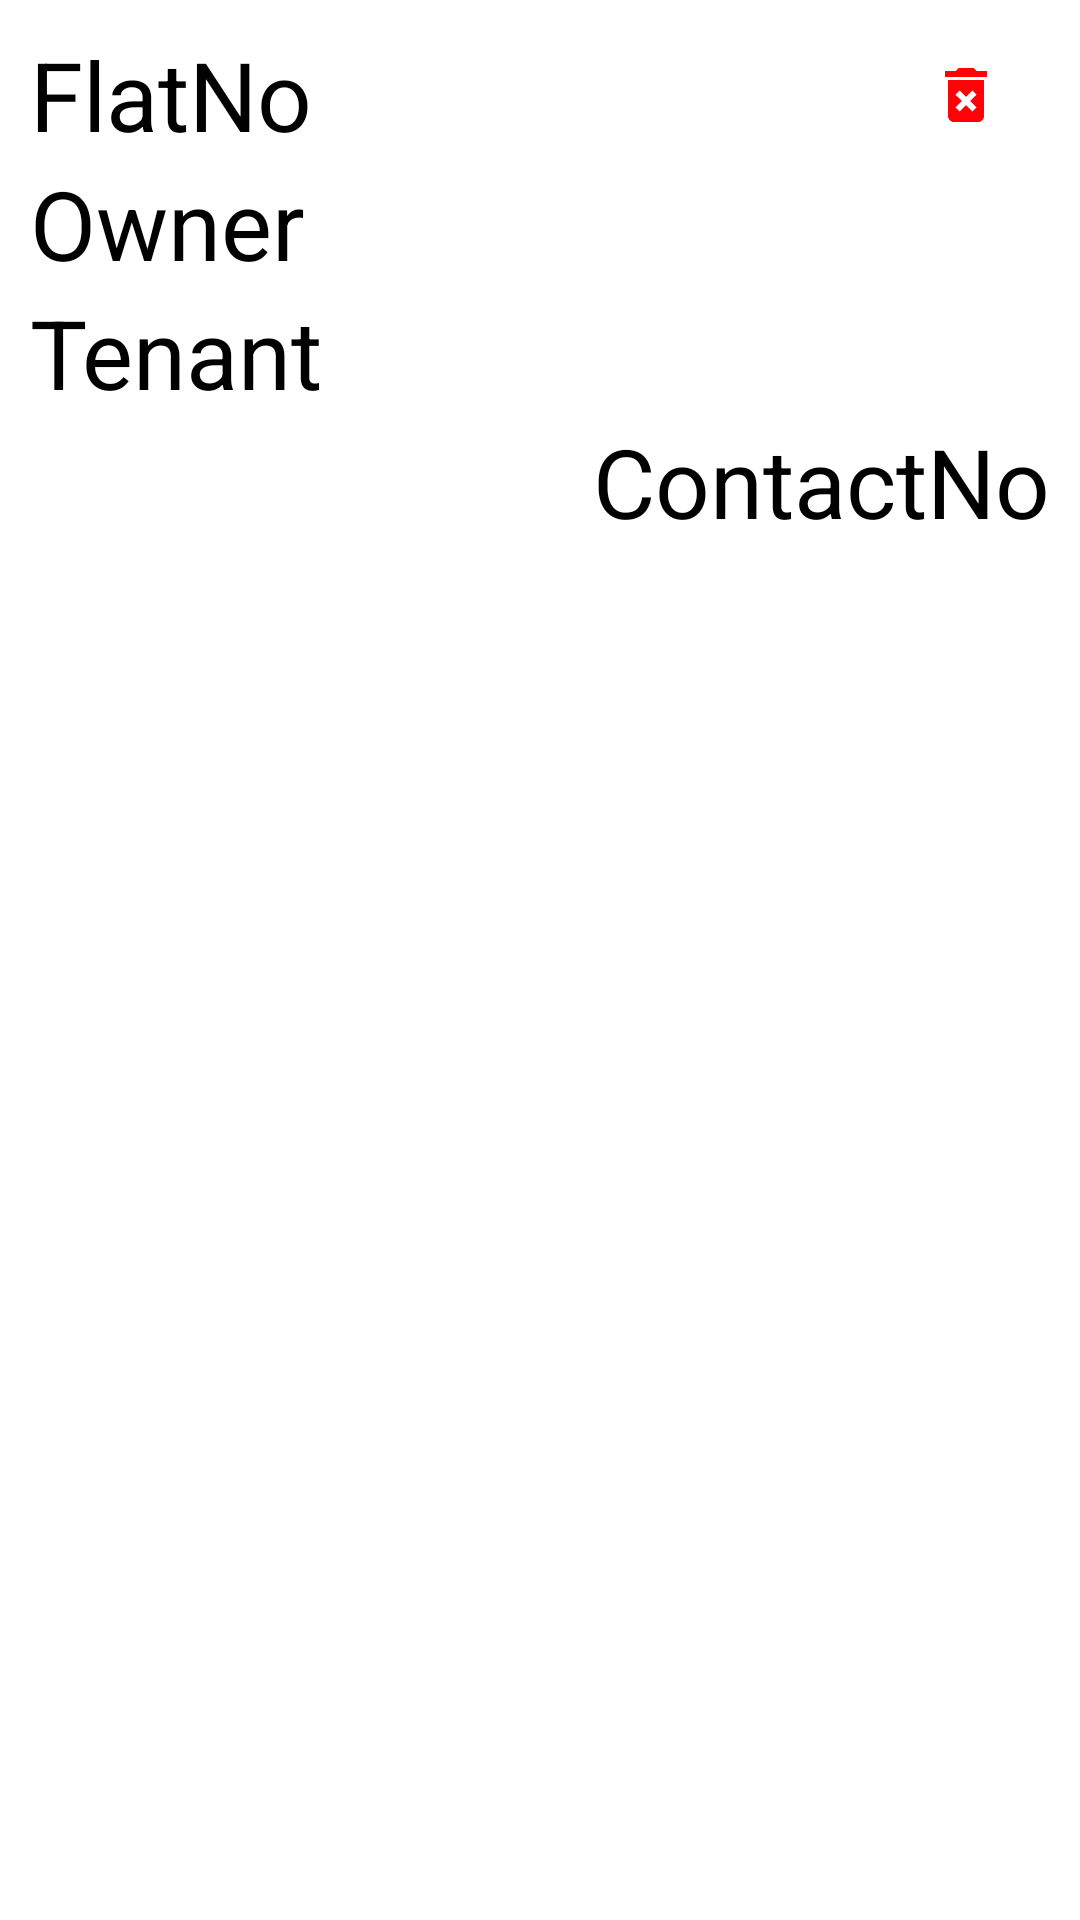

Named icons in this screenshot (1080*1920) and their centers, [x,y]:
deletebutton: [966,95]
